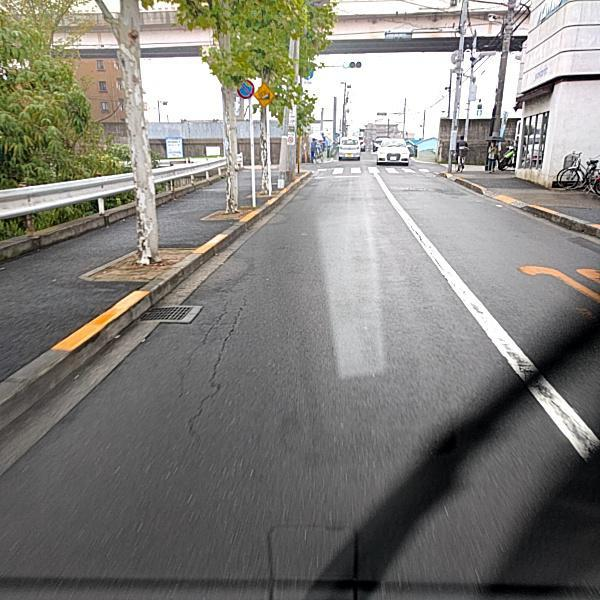D20: (178, 292, 247, 443)
D44: (406, 224, 582, 450)
